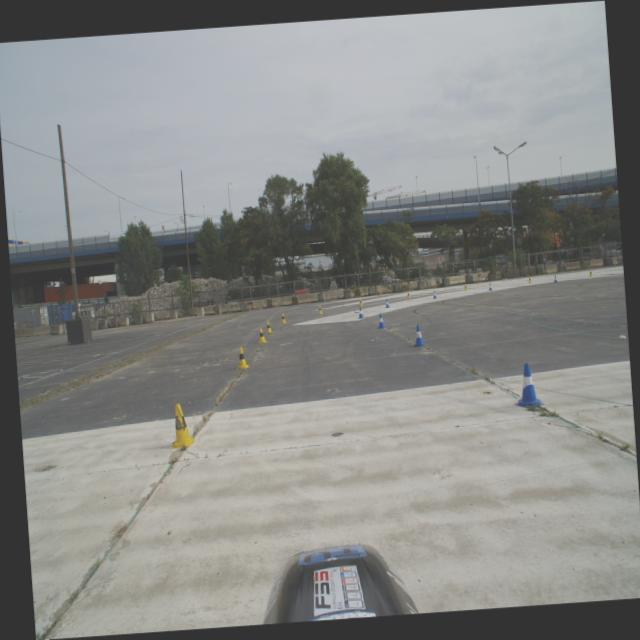blue_cone: (511, 362, 545, 409), (412, 324, 426, 346), (376, 312, 386, 328), (356, 306, 364, 318), (384, 298, 389, 308), (552, 274, 558, 282), (432, 290, 437, 298), (488, 282, 492, 290)
yellow_cone: (167, 402, 196, 449), (234, 346, 250, 369), (256, 326, 266, 344), (265, 321, 273, 334), (279, 312, 286, 323), (317, 304, 322, 314), (358, 298, 363, 306), (588, 269, 592, 276), (527, 276, 531, 283), (406, 291, 410, 298), (463, 284, 467, 290)
